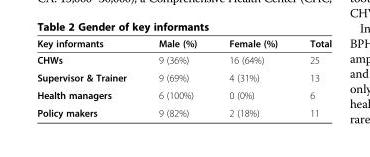table: (36, 37, 331, 118)
table column: (36, 37, 141, 118), (212, 37, 293, 118), (141, 37, 212, 118), (293, 37, 331, 118)
table column header: (36, 37, 331, 51)
table row: (36, 68, 331, 86), (36, 51, 331, 68), (36, 86, 331, 103), (36, 103, 331, 118), (36, 37, 331, 51)
